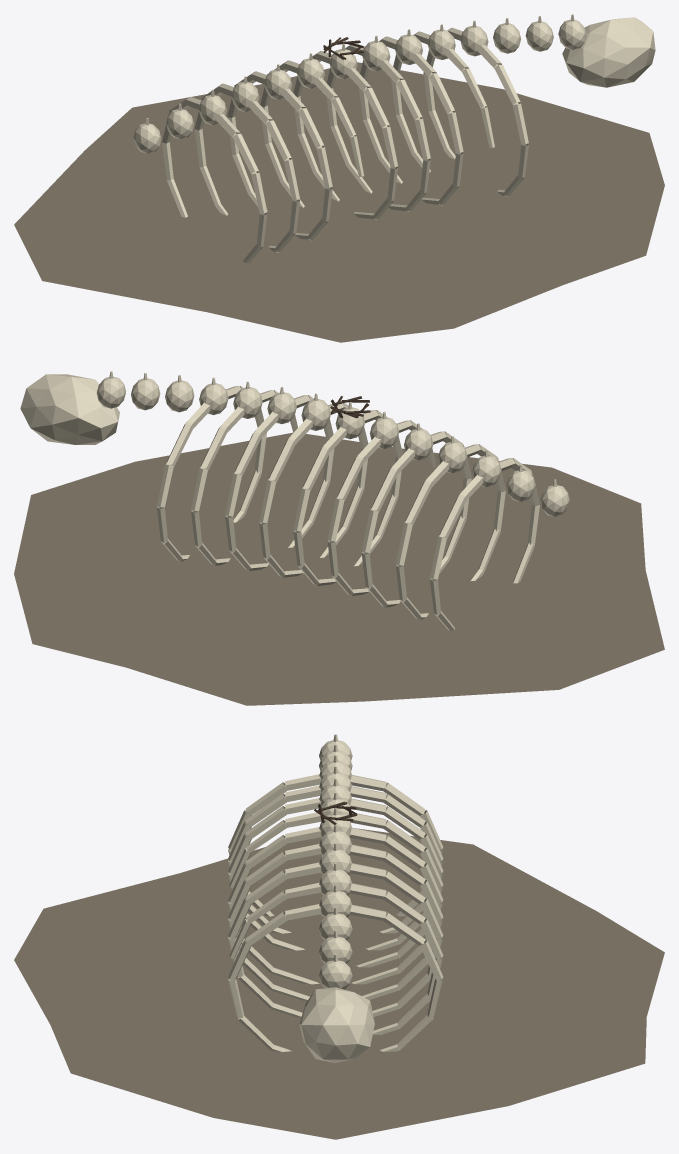
Rendered from DL_Habitat_RibcageRoost.obj.
3 renders of one model, top to bottom at view 1: azimuth 30°, elevation 25°; view 2: azimuth 150°, elevation 25°; view 3: azimuth 270°, elevation 25°, orthographic. The views are drawn at different scales.
Parts seen in each view (by area): view 1: dust, skull, vertebra_0, vertebra_11, vertebra_1, vertebra_12, vertebra_13, vertebra_9, vertebra_7, vertebra_2, vertebra_10, vertebra_3 (+4 smaller); view 2: dust, skull, vertebra_11, vertebra_12, vertebra_13, vertebra_0, vertebra_1, vertebra_9, vertebra_2, vertebra_4, vertebra_7, vertebra_8 (+4 smaller); view 3: dust, skull, vertebra_13, vertebra_12, vertebra_11, vertebra_10, vertebra_9, vertebra_8.
Part boxes in pixels (left/top/right/bottom): dust: left=14, top=62, right=664, bottom=342; skull: left=562, top=17, right=655, bottom=87; vertebra_0: left=133, top=123, right=161, bottom=153; vertebra_11: left=493, top=23, right=520, bottom=53; vertebra_1: left=166, top=109, right=194, bottom=139; vertebra_12: left=525, top=21, right=553, bottom=51; vertebra_13: left=558, top=19, right=586, bottom=49; vertebra_9: left=427, top=29, right=455, bottom=59; vertebra_7: left=362, top=41, right=390, bottom=71; vertebra_2: left=198, top=95, right=226, bottom=125; vertebra_10: left=460, top=26, right=488, bottom=56; vertebra_3: left=231, top=81, right=259, bottom=112; dust: left=14, top=432, right=664, bottom=705; skull: left=20, top=374, right=119, bottom=444; vertebra_11: left=165, top=380, right=194, bottom=412; vertebra_12: left=131, top=378, right=160, bottom=410; vertebra_13: left=96, top=376, right=125, bottom=408; vertebra_0: left=540, top=485, right=569, bottom=516; vertebra_1: left=506, top=470, right=535, bottom=501; vertebra_9: left=233, top=387, right=262, bottom=418; vertebra_2: left=472, top=455, right=501, bottom=487; vertebra_4: left=404, top=428, right=433, bottom=460; vertebra_7: left=301, top=399, right=330, bottom=430; vertebra_8: left=267, top=392, right=296, bottom=424; dust: left=14, top=828, right=664, bottom=1139; skull: left=299, top=987, right=374, bottom=1063; vertebra_13: left=319, top=960, right=352, bottom=989; vertebra_12: left=319, top=936, right=352, bottom=963; vertebra_11: left=319, top=913, right=352, bottom=940; vertebra_10: left=319, top=890, right=351, bottom=917; vertebra_9: left=319, top=869, right=351, bottom=895; vertebra_8: left=319, top=849, right=351, bottom=874.
Size of the model in its own units: 28.71 by 8.2 by 25.02.
